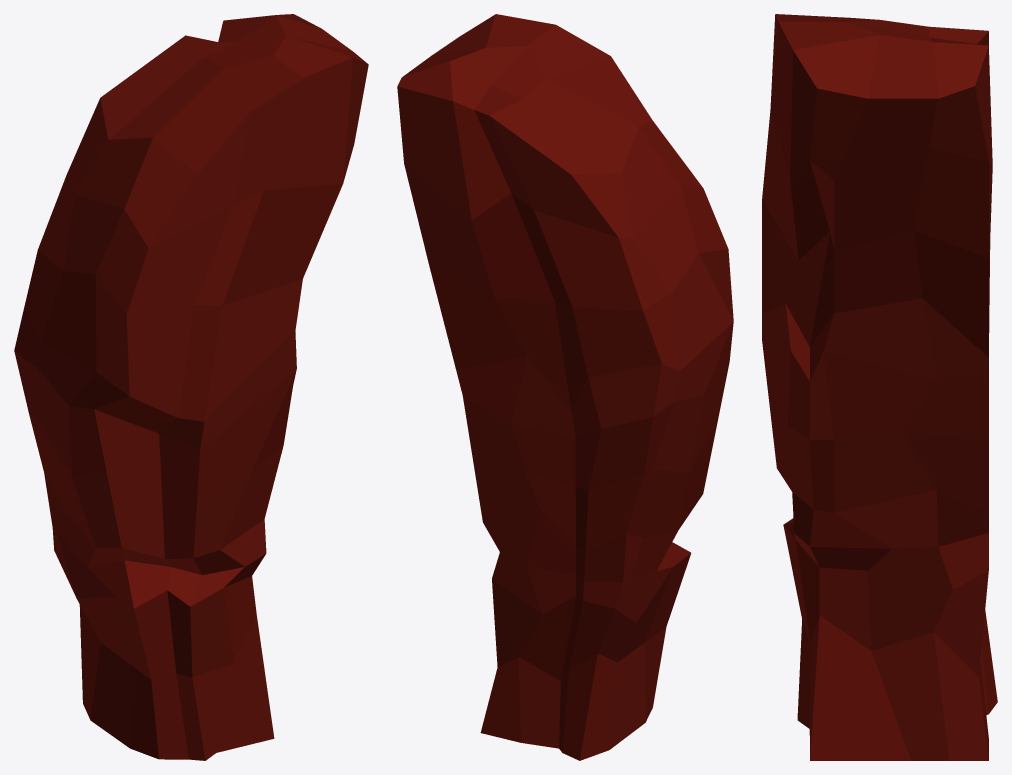
The model's file is Scoglione_1.FBX.
The picture shows the model from 3 angles, left to right: view 1: azimuth 30°, elevation 25°; view 2: azimuth 150°, elevation 25°; view 3: azimuth 270°, elevation 25°; orthographic projection. The views are drawn at different scales.
Visible parts, largest first — view 1: Box005; view 2: Box005; view 3: Box005.
Part boxes in pixels (x1,y1,x2,y2): Box005: (14, 14, 368, 760); Box005: (397, 14, 733, 760); Box005: (762, 14, 997, 760).
Bounding box in the file's own units: 44.93 × 100 × 28.62.
